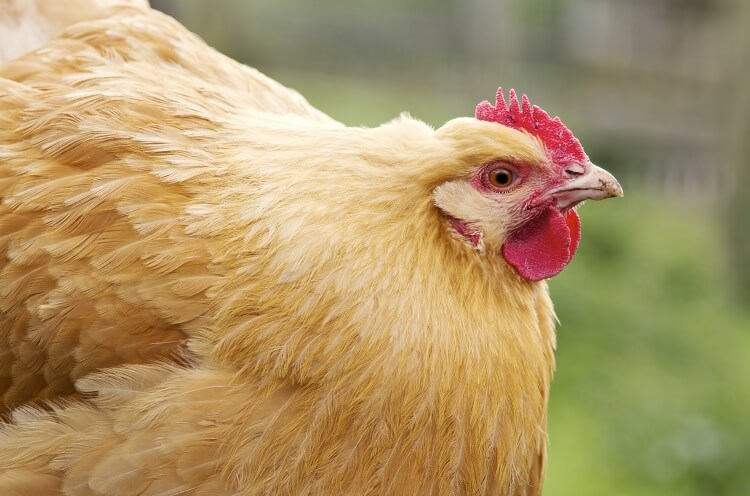buff: (37, 7, 637, 496)
